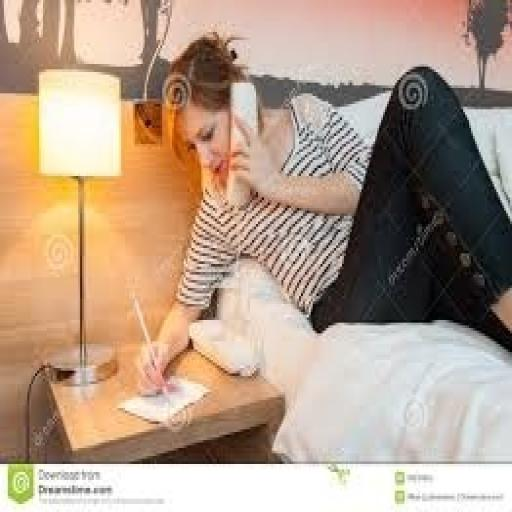calling: (135, 29, 510, 395)
